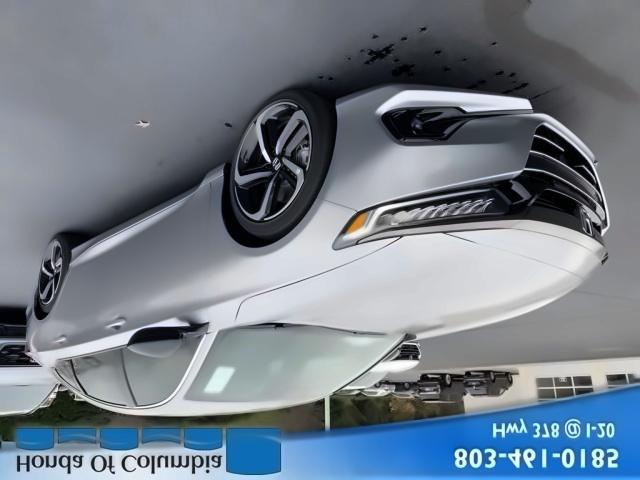Car hood: (233, 215, 611, 343)
Fender - -F-L-: (205, 171, 401, 336)
Fender - -R-L-: (27, 253, 68, 353)
Front bumper: (314, 80, 619, 227)
Headlight - -L-: (331, 182, 515, 253)
Passenger-s door - -F-L-: (106, 183, 205, 411)
Passenger-s door - -R-L-: (50, 221, 132, 411)
Side bumper - -L-: (63, 158, 232, 270)
Side mirror - -L-: (123, 313, 220, 364)
